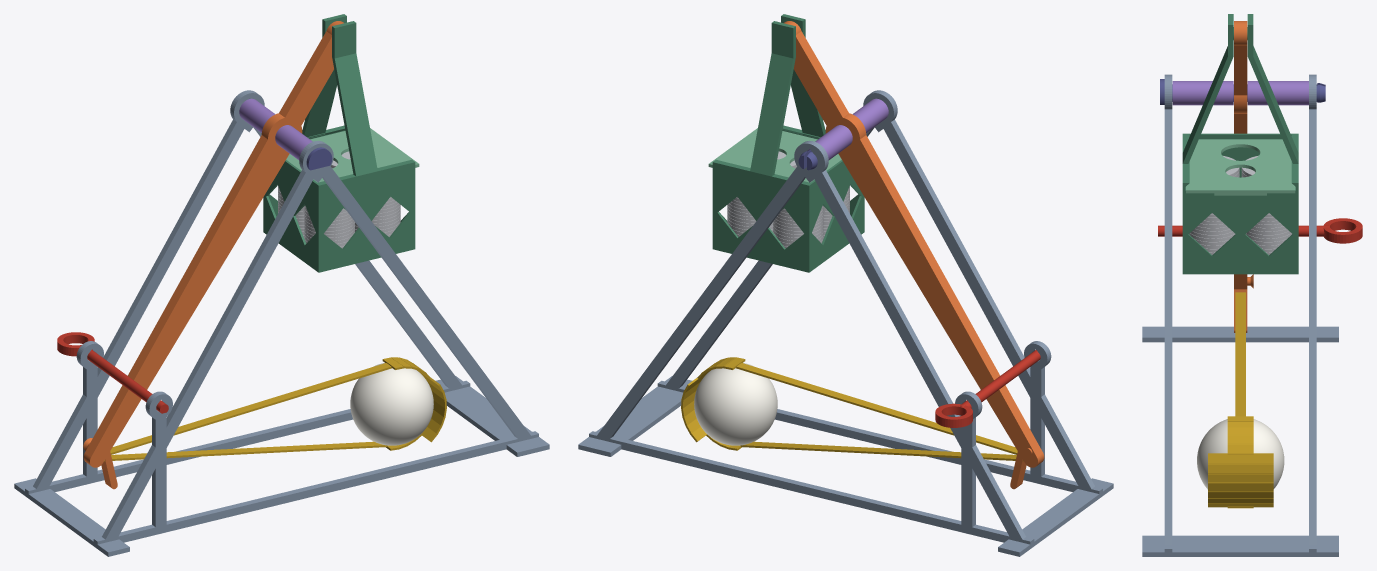
The model's file is assembly.glb.
The picture shows the model from 3 angles, left to right: view 1: azimuth 30°, elevation 25°; view 2: azimuth 150°, elevation 25°; view 3: azimuth 270°, elevation 25°; orthographic projection. The views are drawn at different scales.
Visible parts, largest first — view 1: pingpong_trebuchet_ASSEMBLED (×9); view 2: pingpong_trebuchet_ASSEMBLED (×9); view 3: pingpong_trebuchet_ASSEMBLED (×10).
Boxes of the visible parts, x1,y1,x2,y2 form: pingpong_trebuchet_ASSEMBLED (×9): (14,14,549,556); pingpong_trebuchet_ASSEMBLED (×9): (578,14,1113,556); pingpong_trebuchet_ASSEMBLED (×10): (1142,14,1362,556).
Bounding box in the file's own units: 0.244 × 0.2307 × 0.1008.
